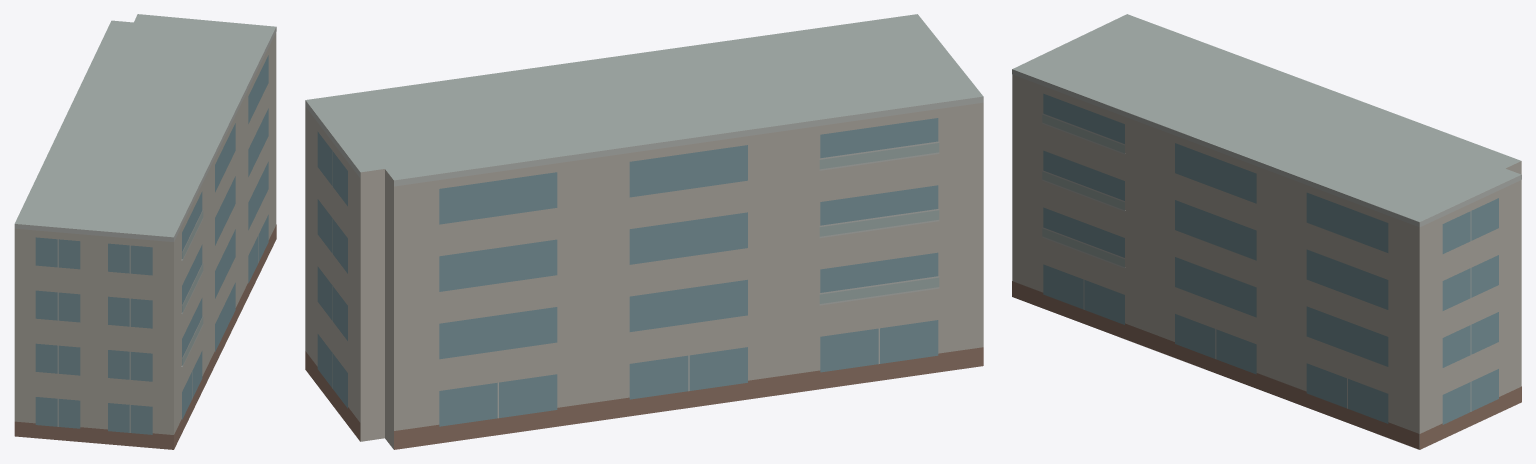
File: survey-upis-32524049.glb
3 renders of one model, left to right at view 1: azimuth 30°, elevation 25°; view 2: azimuth 150°, elevation 25°; view 3: azimuth 270°, elevation 25°, orthographic. The views are drawn at different scales.
Visible parts, largest first — view 1: survey-upis-32524049.tmp; view 2: survey-upis-32524049.tmp; view 3: survey-upis-32524049.tmp.
Part boxes in pixels (x1,y1,x2,y2): survey-upis-32524049.tmp: [14, 14, 276, 449]; survey-upis-32524049.tmp: [305, 14, 983, 449]; survey-upis-32524049.tmp: [1012, 14, 1521, 449].
Size of the model in its own units: 21.1 by 10.75 by 21.82.
